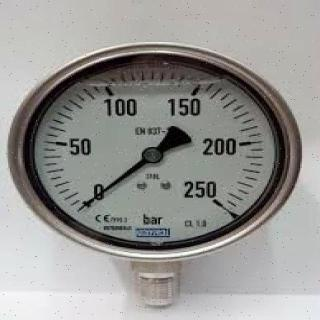gauge: (1, 37, 307, 271), (183, 180, 233, 220), (74, 182, 106, 218), (142, 146, 162, 164), (75, 202, 86, 214)
